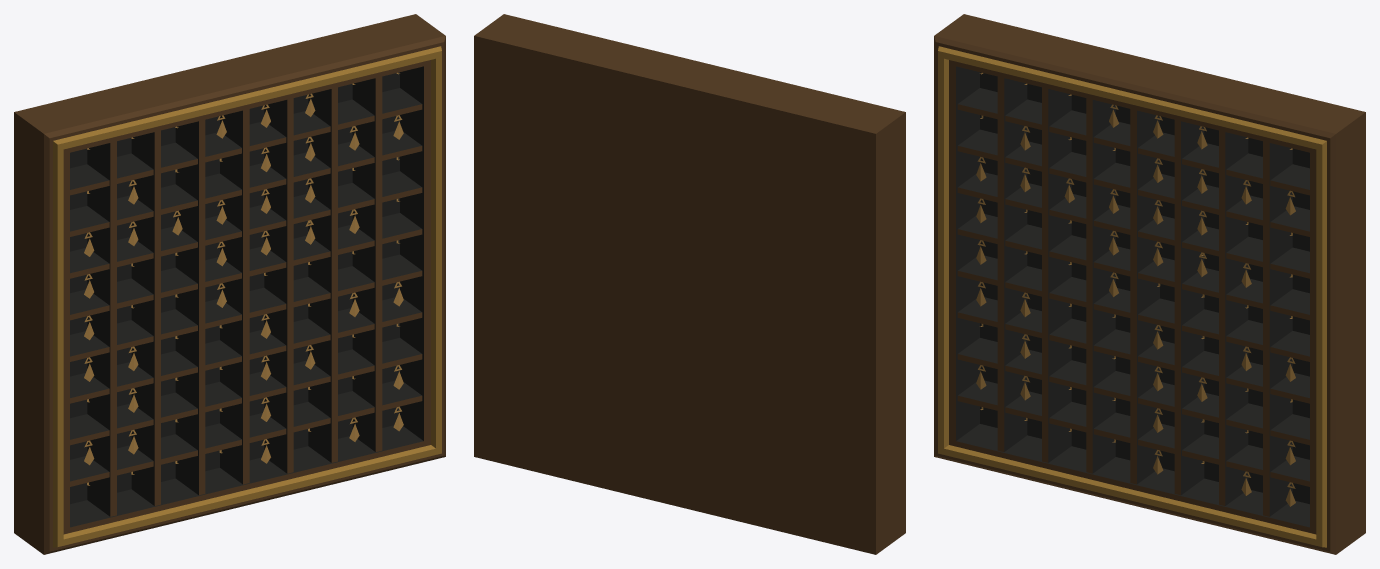
File: pigeonhole-key-wall-7e7a35.glb
The picture shows the model from 3 angles, left to right: view 1: azimuth 30°, elevation 25°; view 2: azimuth 150°, elevation 25°; view 3: azimuth 330°, elevation 25°; orthographic projection.
Parts seen in each view (by area): view 1: cabinet; view 2: cabinet; view 3: cabinet.
Boxes of the visible parts, x1,y1,x2,y2 form: cabinet: (14, 14, 445, 554); cabinet: (474, 14, 905, 554); cabinet: (934, 14, 1365, 554).
Size of the model in its own units: 2 by 2 by 0.3.
